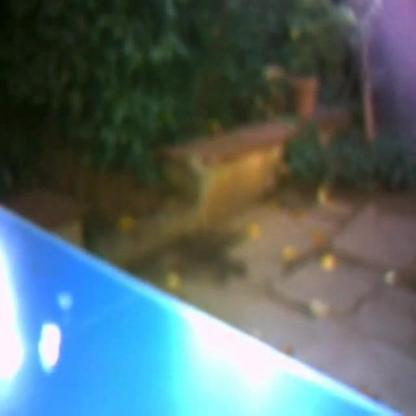other: (0, 239, 39, 402)
